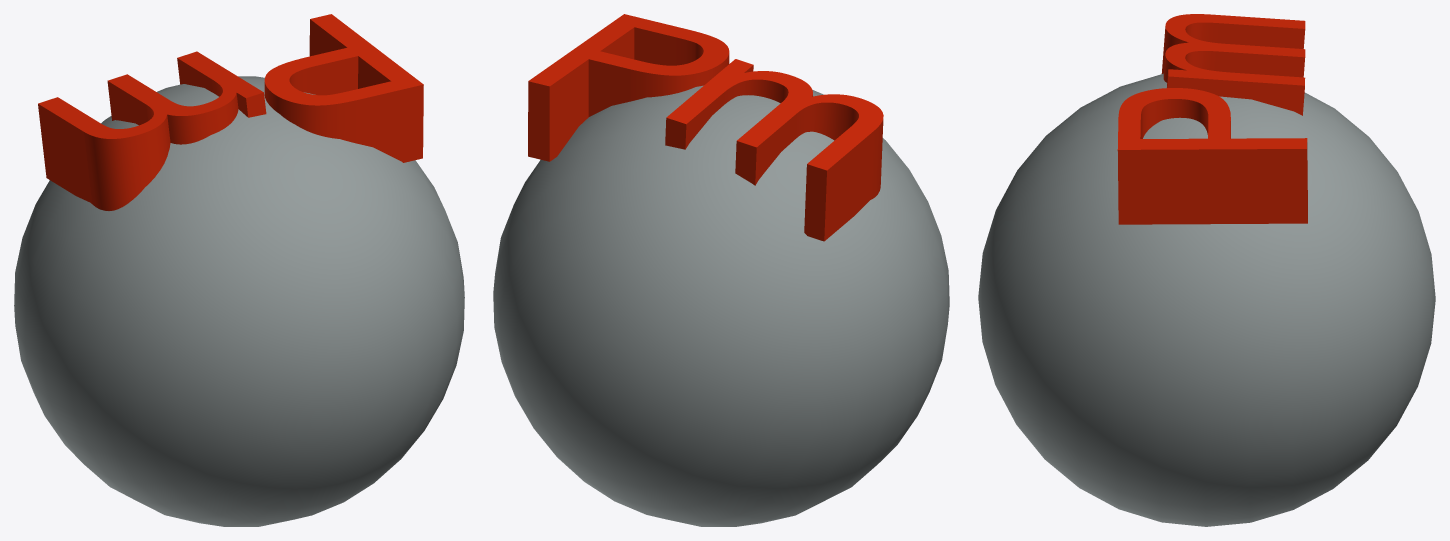
The picture shows the model from 3 angles, left to right: view 1: azimuth 30°, elevation 25°; view 2: azimuth 150°, elevation 25°; view 3: azimuth 270°, elevation 25°; orthographic projection.
Parts seen in each view (by area): view 1: Lu001, Object007, Object008; view 2: Lu001, Object007, Object008; view 3: Lu001, Object008, Object007.
Part boxes in pixels (bbox=[...]): Lu001: bbox=[14, 76, 464, 526]; Object007: bbox=[38, 51, 266, 210]; Object008: bbox=[264, 14, 423, 162]; Lu001: bbox=[493, 85, 949, 526]; Object007: bbox=[665, 59, 883, 241]; Object008: bbox=[528, 14, 729, 161]; Lu001: bbox=[978, 73, 1435, 526]; Object008: bbox=[1117, 88, 1307, 224]; Object007: bbox=[1161, 14, 1305, 115].
Size of the model in its own units: 38.67 by 40.3 by 38.75.
